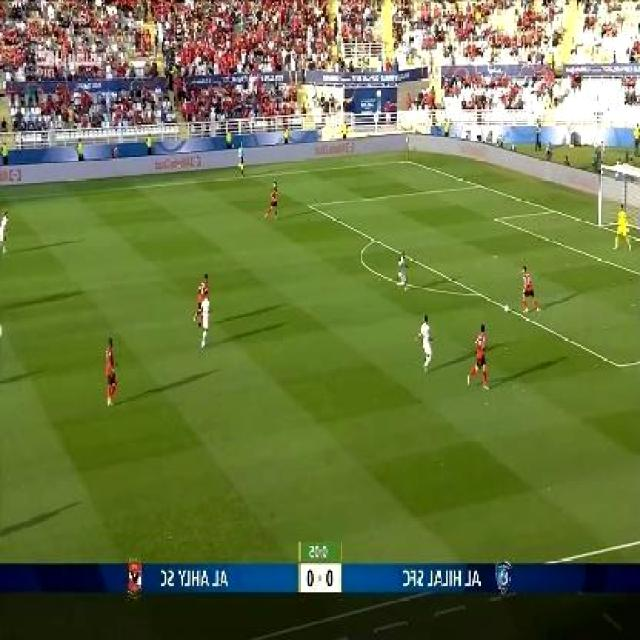bigarea_bottom_inner: (611, 352, 629, 377)
bigarea_top_inner: (306, 197, 320, 212)
bigarea_top_outter: (475, 178, 488, 191)
bottom_arc_area_intersection: (472, 283, 486, 300)
corner: (402, 154, 416, 164)
smallarea_top_inner: (492, 212, 505, 225)
smallarea_top_outter: (549, 201, 563, 217)
top_arc_area_intersection: (369, 231, 383, 246)
